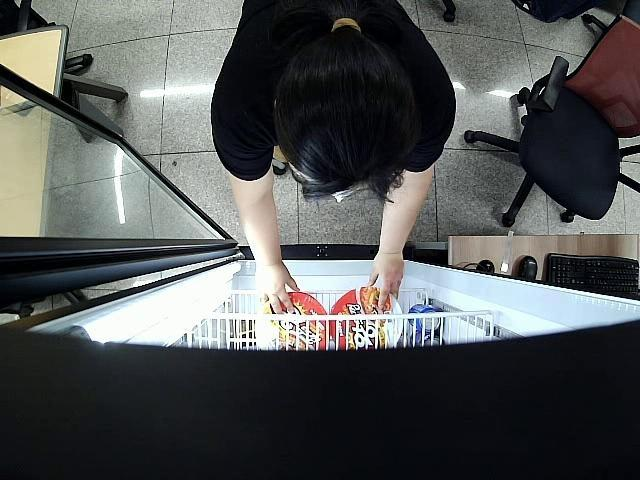10_wangTtukkeong: (261, 290, 331, 350), (334, 289, 402, 350)
